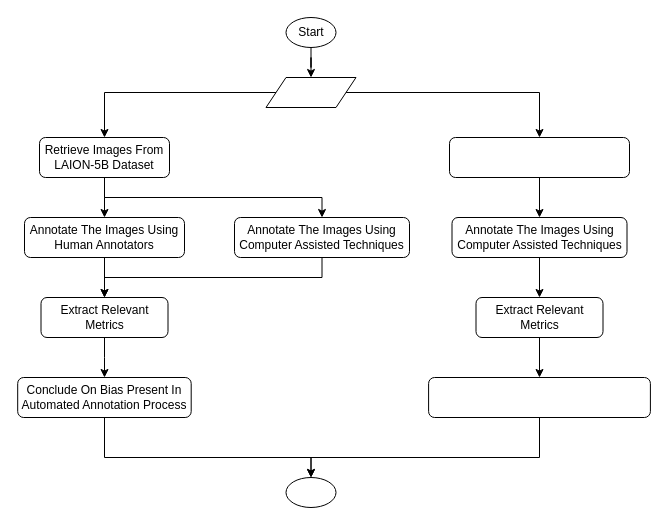
This 668x525 diagram has some shape labels left out. The shapes that lost their labels are listed below. From the top down, each one's centre as x and y in pixels, then its label:
At [310,92]: "Prompt".
At [539,157]: "Generate Images Using Prompt and StableDiffusion Model".
At [539,397]: "Conclude On Bias Present In Generative Model And Degree Of Bias Mitigation".
At [310,492]: "End".
